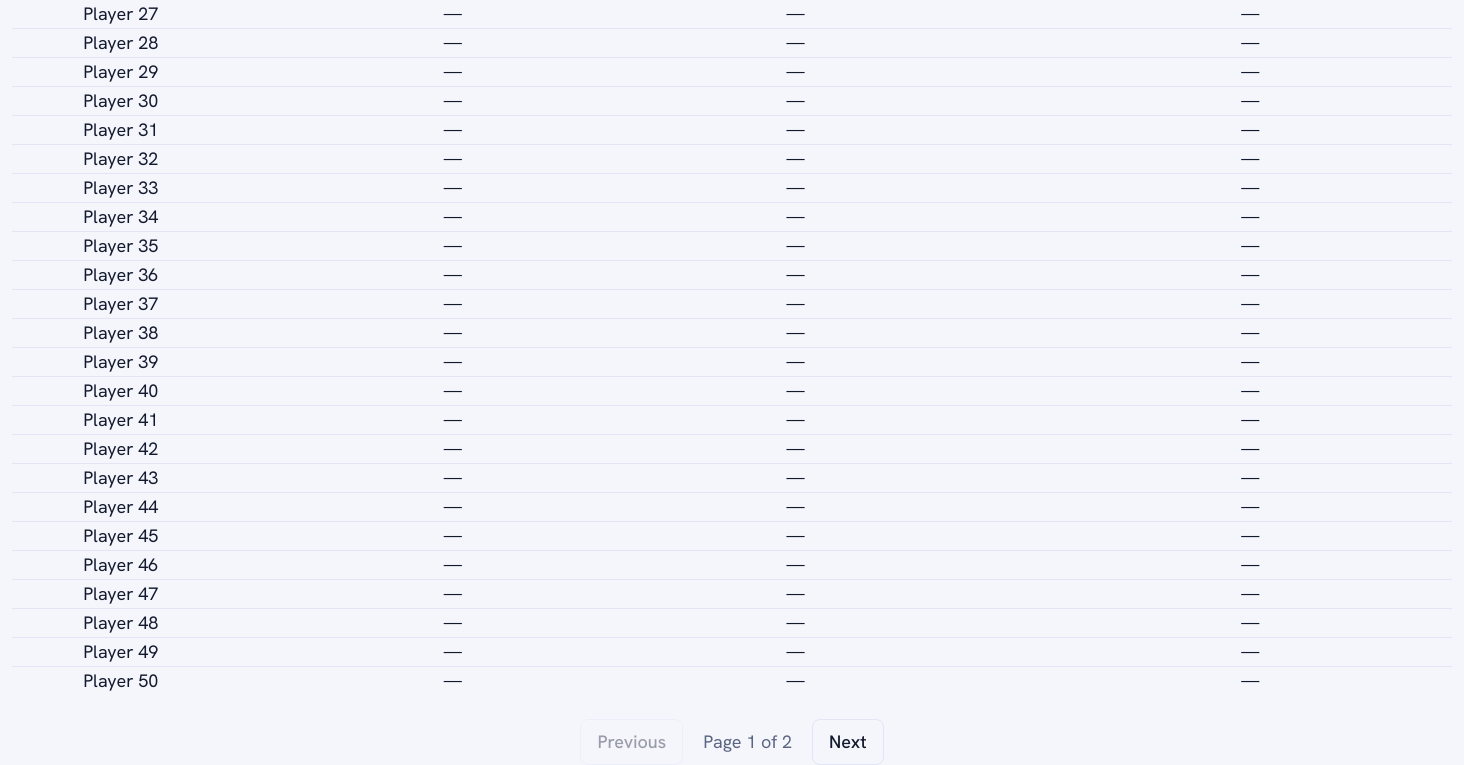
it: PlayerDirectoryTable › paginates when there are more than 50 filtered players
(page scrolled)
Expected: the text "Player 50" is shown, [75,666,435,695]
Expected: the text "Player 51" is not shown
Click the button "Next".
click(848, 742)  # box [812,719,884,764]
(page scrolled)
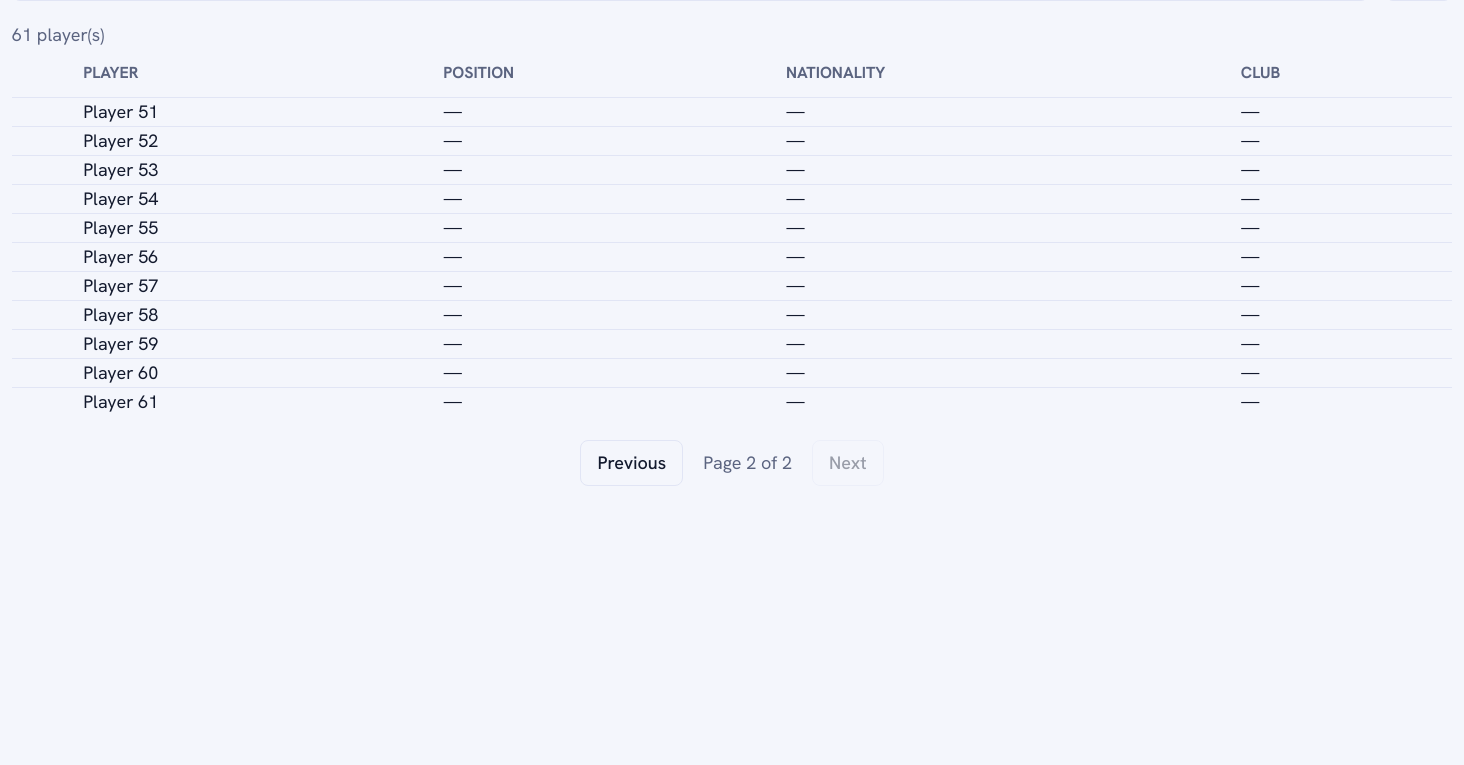
Result: the text "Player 51" is shown at [75,98,435,126]
Result: the text "Player 61" is shown at [75,388,435,416]
